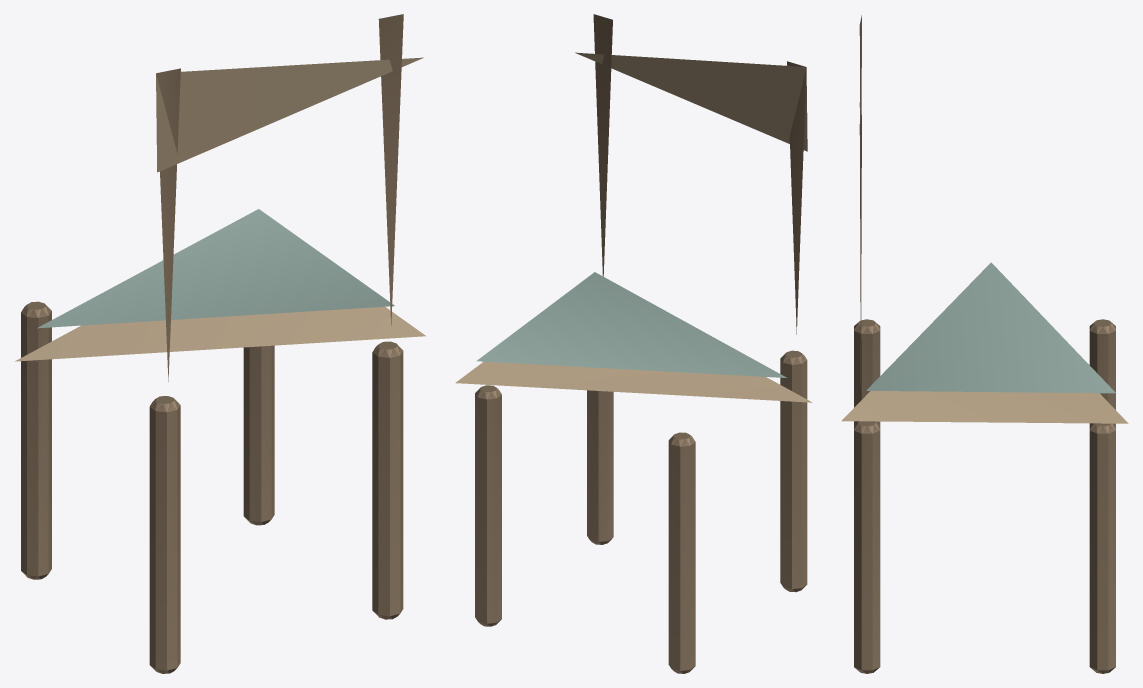
Rendered from furn_dining_chair__oak_low.glb.
The picture shows the model from 3 angles, left to right: view 1: azimuth 30°, elevation 25°; view 2: azimuth 150°, elevation 25°; view 3: azimuth 270°, elevation 25°; orthographic projection. The views are drawn at different scales.
Bounding box in the file's own units: 0.584 × 0.9803 × 0.4637.
